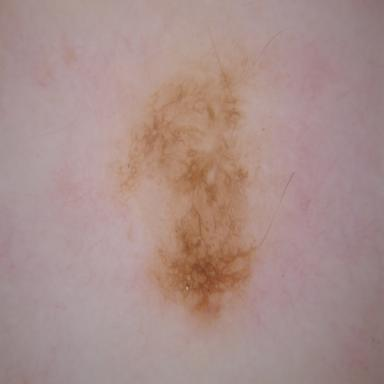nevus: (117, 57, 253, 319)
